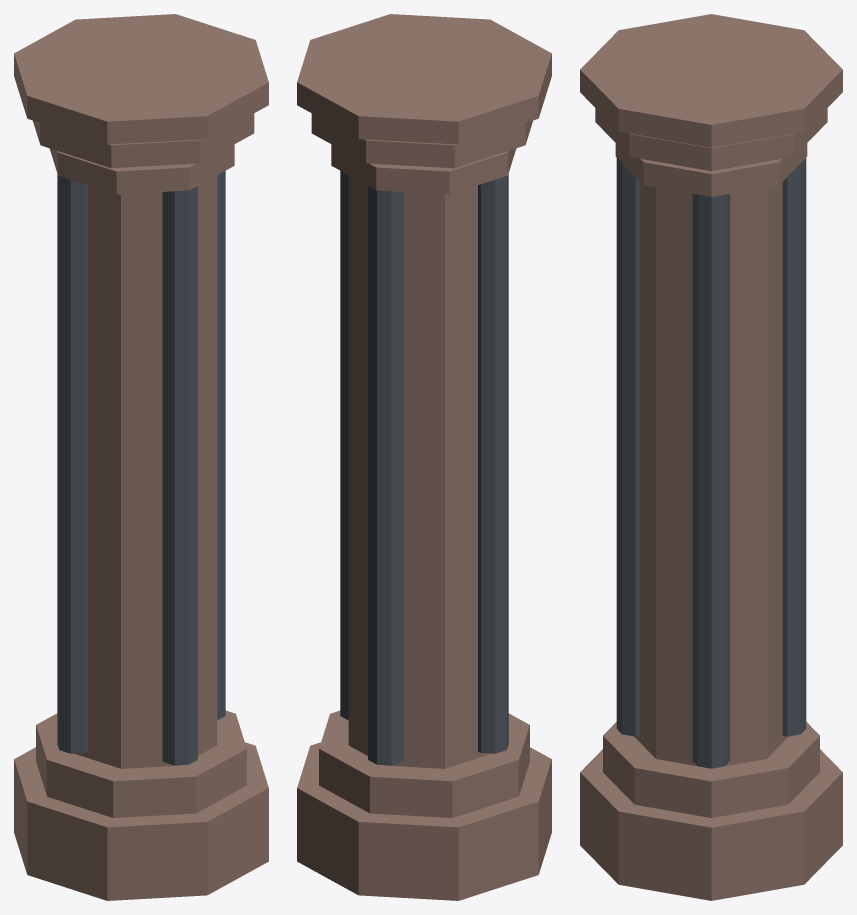
Rendered from d2_pier.glb.
The picture shows the model from 3 angles, left to right: view 1: azimuth 30°, elevation 25°; view 2: azimuth 150°, elevation 25°; view 3: azimuth 270°, elevation 25°; orthographic projection.
Parts seen in each view (by area): view 1: Body.004; view 2: Body.004; view 3: Body.004.
Boxes of the visible parts, box(x1,y1,x2,y2) form: Body.004: box(14, 14, 268, 900); Body.004: box(297, 14, 551, 900); Body.004: box(580, 14, 842, 900).
Bounding box in the file's own units: 1.04 × 3.39 × 1.04.
